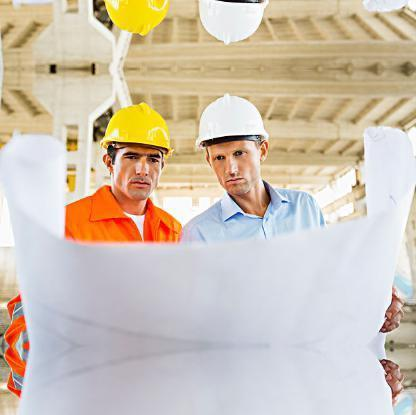helmet: (188, 89, 275, 159), (99, 97, 177, 160)
